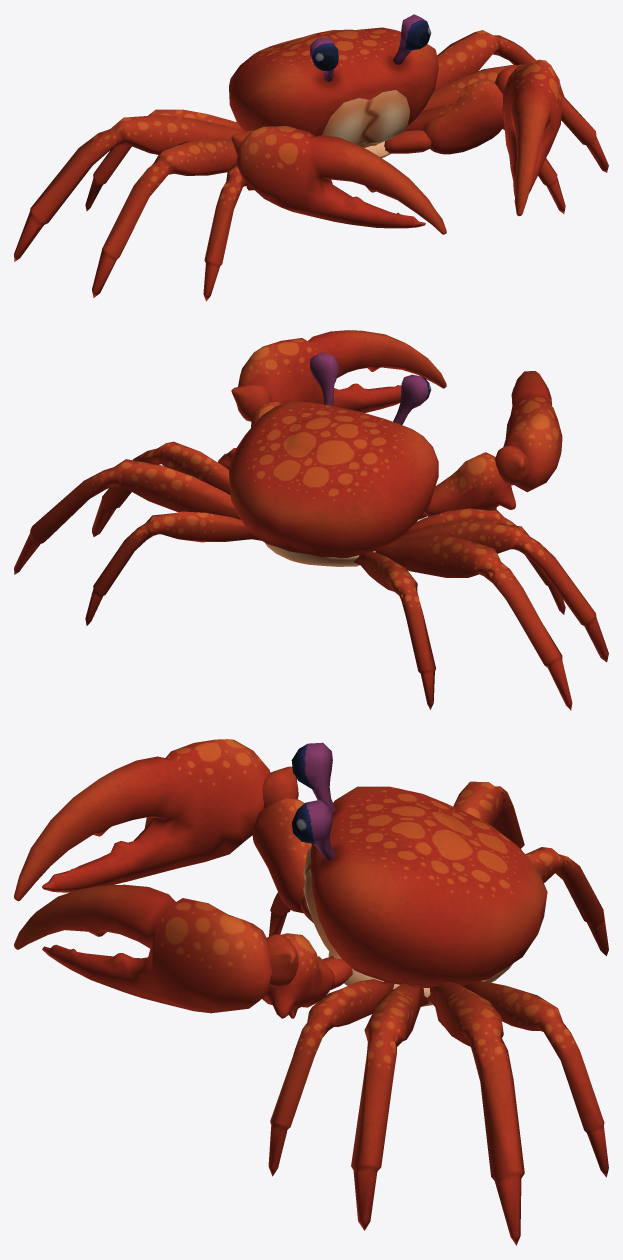
Rendered from cangrejo.fbx.
3 renders of one model, top to bottom at view 1: azimuth 30°, elevation 25°; view 2: azimuth 150°, elevation 25°; view 3: azimuth 270°, elevation 25°, orthographic. The views are drawn at different scales.
Parts seen in each view (by area): view 1: Tangan4, Badan, Kaki3, Kaki2, Tangan2, Kaki1, Mata, Kaki4, Tangan1, Tangan3; view 2: Badan, Tangan4, Kaki3, Kaki2, Kaki4, Tangan2, Mata, Tangan3, Kaki1, Badan2; view 3: Tangan4, Badan, Kaki3, Kaki4, Kaki2, Tangan2, Kaki1, Mata, Tangan3, Tangan1.
Part boxes in pixels (x1,y1,x2,y2): Tangan4: [236, 59, 562, 234]; Badan: [229, 27, 438, 147]; Kaki3: [14, 30, 564, 261]; Kaki2: [92, 65, 608, 297]; Tangan2: [246, 79, 504, 190]; Kaki1: [203, 104, 565, 301]; Mata: [309, 14, 431, 81]; Kaki4: [85, 109, 244, 211]; Tangan1: [384, 130, 431, 153]; Tangan3: [231, 64, 522, 155]; Badan: [229, 401, 438, 558]; Tangan4: [238, 330, 562, 492]; Kaki3: [14, 459, 572, 710]; Kaki2: [92, 441, 608, 662]; Kaki4: [85, 511, 435, 709]; Tangan2: [251, 402, 515, 516]; Mata: [309, 352, 431, 424]; Tangan3: [231, 384, 529, 485]; Kaki1: [217, 448, 565, 614]; Badan2: [265, 543, 375, 566]; Tangan4: [14, 739, 271, 1013]; Badan: [303, 786, 547, 987]; Kaki3: [427, 781, 524, 1245]; Kaki4: [462, 847, 608, 1177]; Kaki2: [351, 983, 428, 1230]; Tangan2: [252, 798, 334, 1018]; Kaki1: [268, 892, 394, 1176]; Mata: [291, 742, 335, 860]; Tangan3: [262, 766, 298, 986]; Tangan1: [300, 898, 352, 989].
Bounding box in the file's own units: 76.18 × 29.04 × 53.36.
3 materials, 3 textured.
